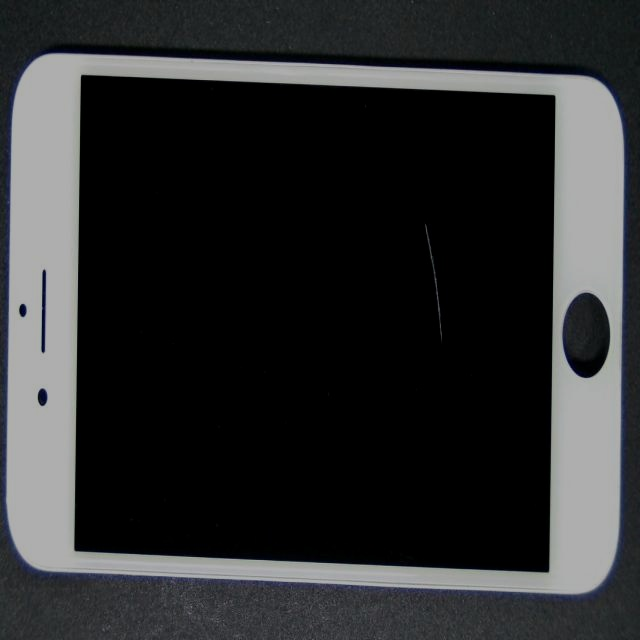scratch: (254, 228, 640, 400)
